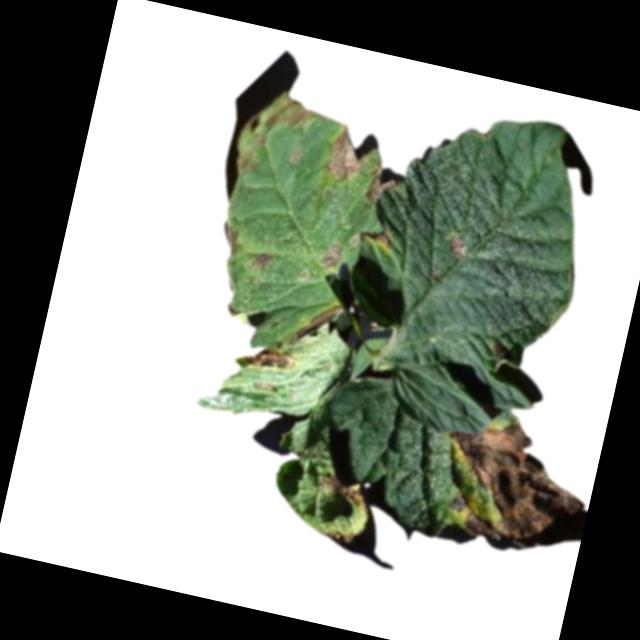Early_blight: (426, 408, 599, 558), (320, 122, 369, 186), (291, 294, 342, 349), (313, 472, 371, 511), (241, 342, 297, 378), (362, 160, 401, 211), (217, 221, 244, 258), (444, 232, 471, 263), (321, 243, 346, 270), (360, 228, 390, 249), (323, 526, 354, 545), (250, 249, 272, 274), (490, 339, 510, 364)
